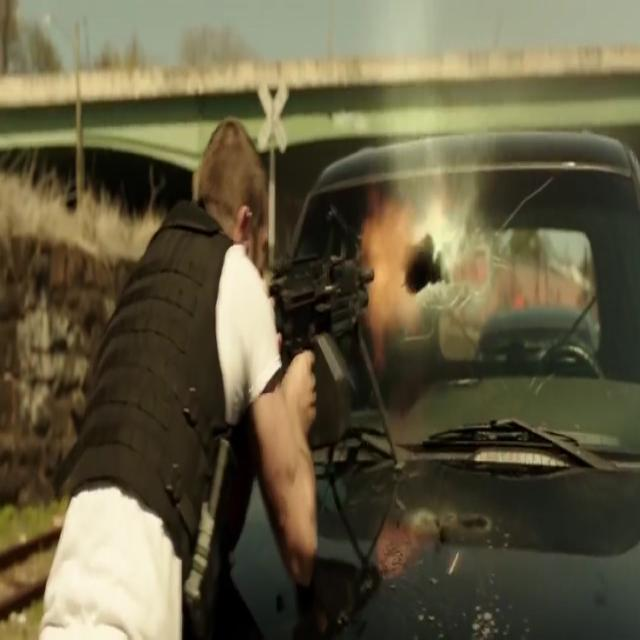Weapon: (249, 228, 404, 458)
